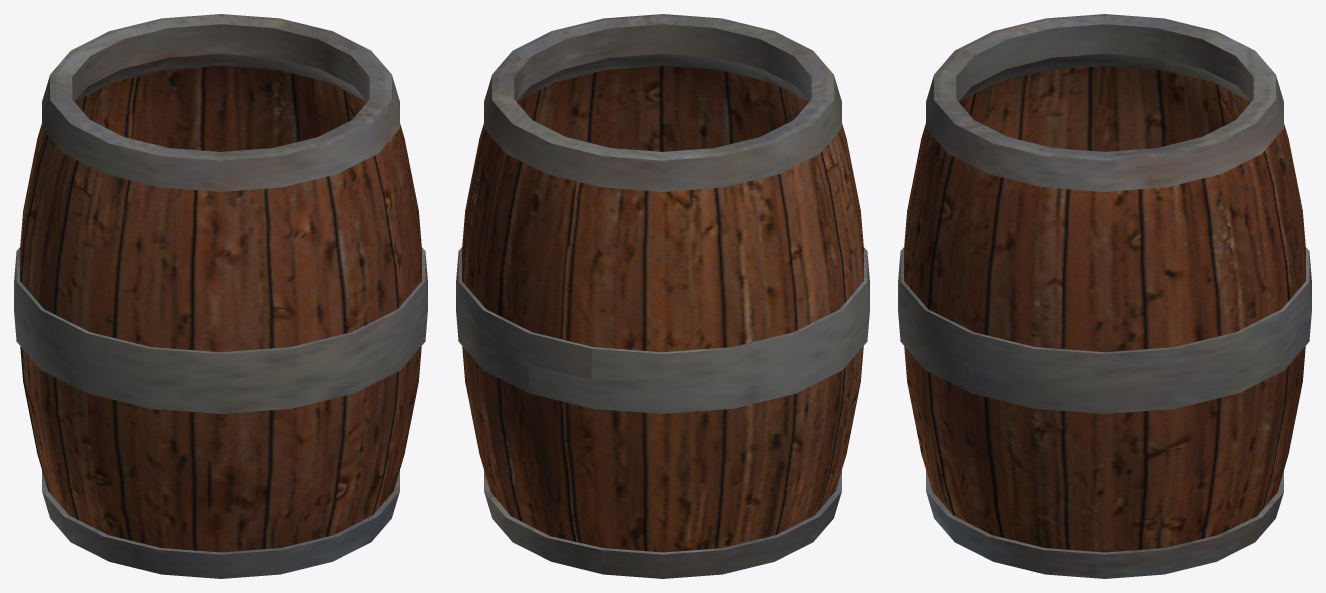
Rendered from Barrel_open.FBX.
3 renders of one model, left to right at view 1: azimuth 30°, elevation 25°; view 2: azimuth 150°, elevation 25°; view 3: azimuth 270°, elevation 25°, orthographic.
Parts seen in each view (by area): view 1: Barrel_open; view 2: Barrel_open; view 3: Barrel_open.
Boxes of the visible parts, x1,y1,x2,y2 form: Barrel_open: (14,14,427,578); Barrel_open: (456,14,869,578); Barrel_open: (898,14,1311,578).
Bounding box in the file's own units: 247 × 272 × 243.
2 materials, 2 textured.
